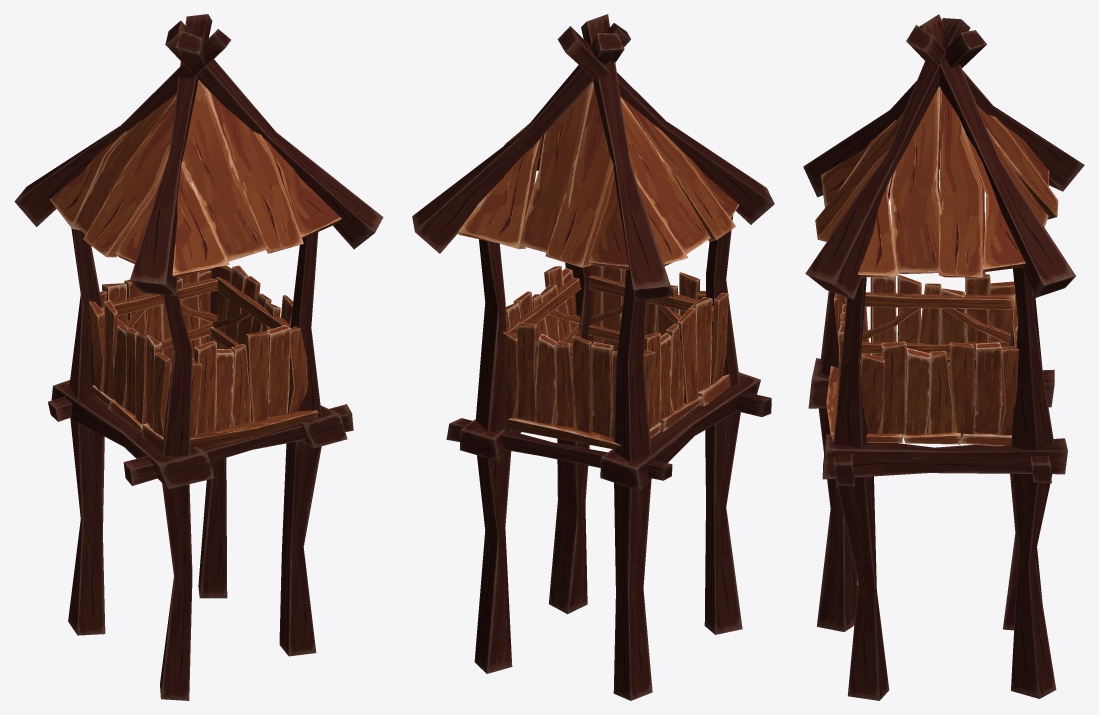
File: watchtower-1.glb
The picture shows the model from 3 angles, left to right: view 1: azimuth 30°, elevation 25°; view 2: azimuth 150°, elevation 25°; view 3: azimuth 270°, elevation 25°; orthographic projection. The views are drawn at different scales.
Visible parts, largest first — view 1: SM_PROP_watchtower_wood_01; view 2: SM_PROP_watchtower_wood_01; view 3: SM_PROP_watchtower_wood_01.
Boxes of the visible parts, x1,y1,x2,y2 form: SM_PROP_watchtower_wood_01: [14, 14, 383, 700]; SM_PROP_watchtower_wood_01: [412, 14, 774, 700]; SM_PROP_watchtower_wood_01: [803, 14, 1084, 700].
Size of the model in its own units: 5.01 by 11.21 by 4.48.
Materials: 2 (2 with a texture image).
